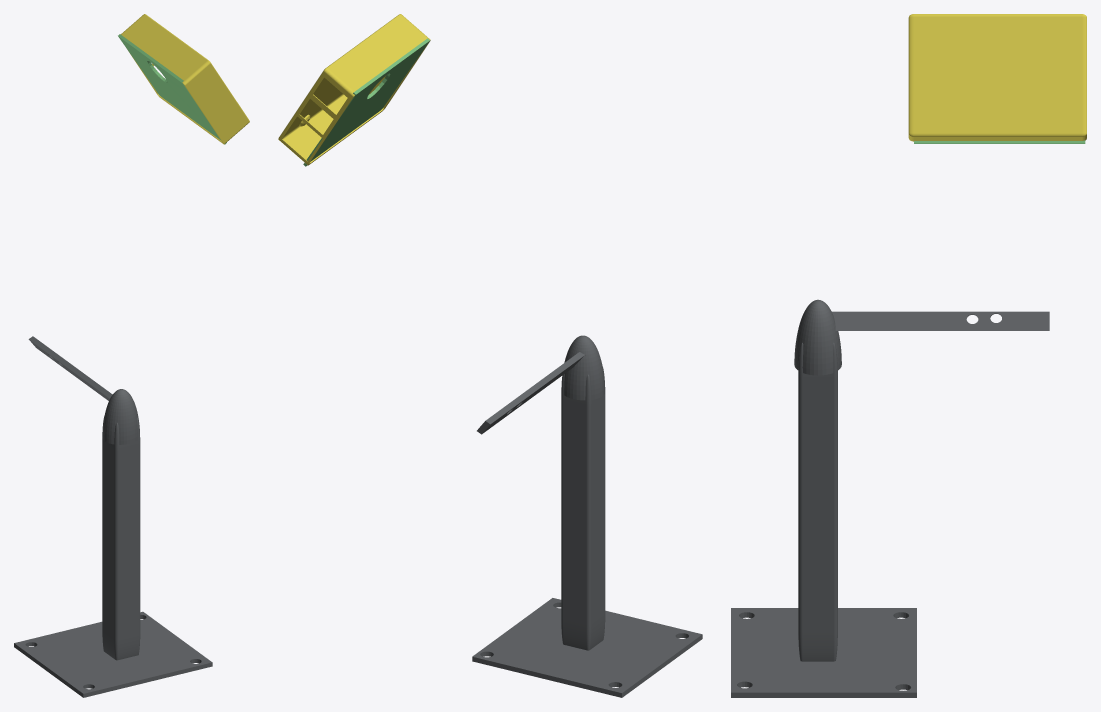
File: Copy of Component View.glb
3 renders of one model, left to right at view 1: azimuth 30°, elevation 25°; view 2: azimuth 150°, elevation 25°; view 3: azimuth 270°, elevation 25°, orthographic. The views are drawn at different scales.
Parts seen in each view (by area): view 1: Mesh_Mesh_head_geo.001_lambert2SG.001; view 2: Mesh_Mesh_head_geo.001_lambert2SG.001; view 3: Mesh_Mesh_head_geo.001_lambert2SG.001.
Boxes of the visible parts, <box> form: Mesh_Mesh_head_geo.001_lambert2SG.001: <box>14,14,249,697</box>; Mesh_Mesh_head_geo.001_lambert2SG.001: <box>278,14,702,697</box>; Mesh_Mesh_head_geo.001_lambert2SG.001: <box>731,14,1086,697</box>.
Bounding box in the file's own units: 183 × 404 × 180.
